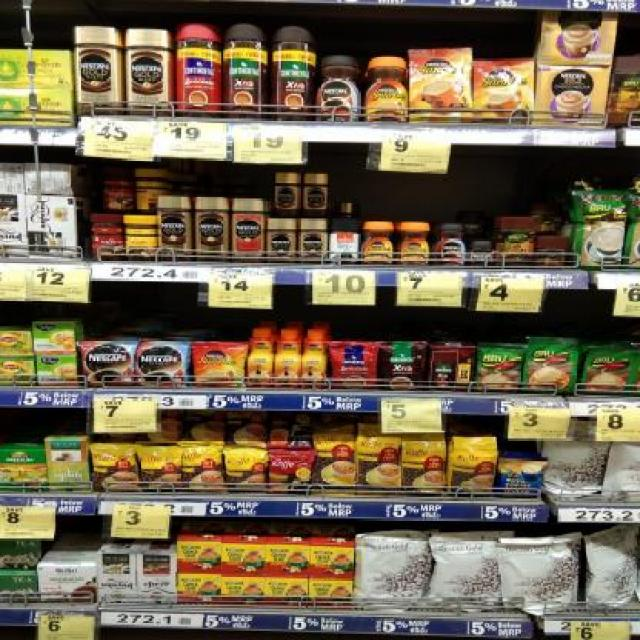Coffee: (412, 50, 472, 122), (75, 26, 122, 114), (124, 30, 170, 116), (473, 59, 532, 124), (362, 57, 411, 121), (316, 54, 362, 121), (137, 340, 186, 389), (80, 341, 132, 387), (195, 341, 243, 388), (195, 197, 230, 261), (157, 196, 191, 261), (275, 328, 300, 388), (303, 328, 328, 388), (360, 222, 394, 264), (397, 222, 429, 266), (266, 218, 296, 264), (249, 328, 273, 384), (434, 224, 466, 265), (300, 220, 328, 265), (274, 173, 300, 216), (303, 174, 328, 218), (468, 240, 495, 265)
